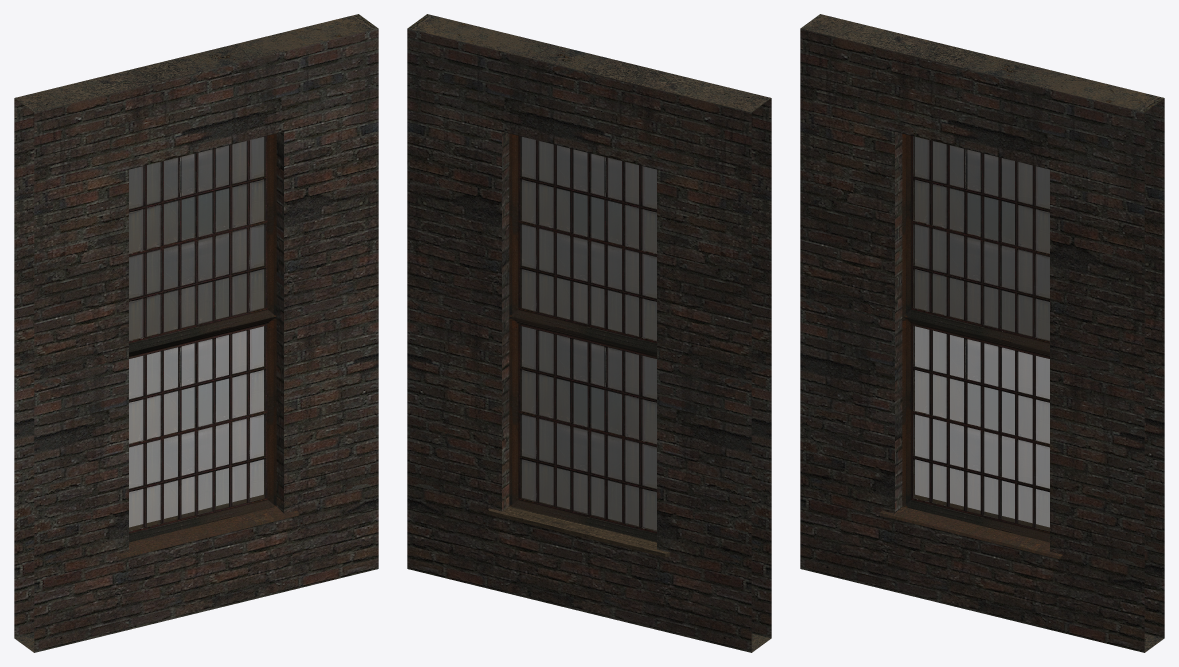
Rendered from wall_hs_1_m_2.dae.
3 views of the same model, side by side, from view 1: azimuth 30°, elevation 25°; view 2: azimuth 150°, elevation 25°; view 3: azimuth 330°, elevation 25° (orthographic).
Parts seen in each view (by area): view 1: wall_hs_1_m_2; view 2: wall_hs_1_m_2; view 3: wall_hs_1_m_2.
Boxes of the visible parts, <box> form: wall_hs_1_m_2: <box>14,14,378,652</box>; wall_hs_1_m_2: <box>407,14,771,652</box>; wall_hs_1_m_2: <box>800,14,1164,652</box>.
Bounding box in the file's own units: 4 × 0.505 × 6.
Materials: 6 (6 with a texture image).
